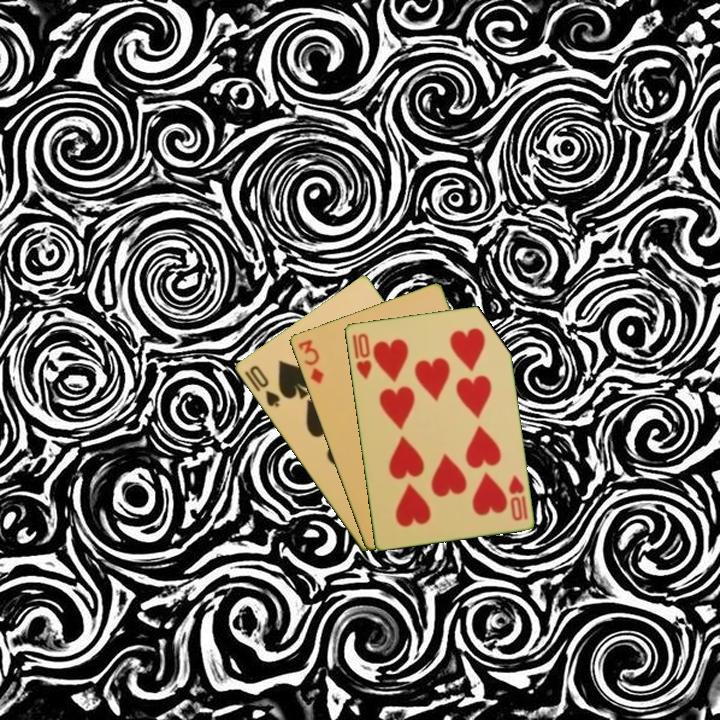10h: (505, 471, 530, 523), (352, 329, 374, 382)
10s: (245, 362, 283, 410)
3d: (294, 336, 326, 387)
